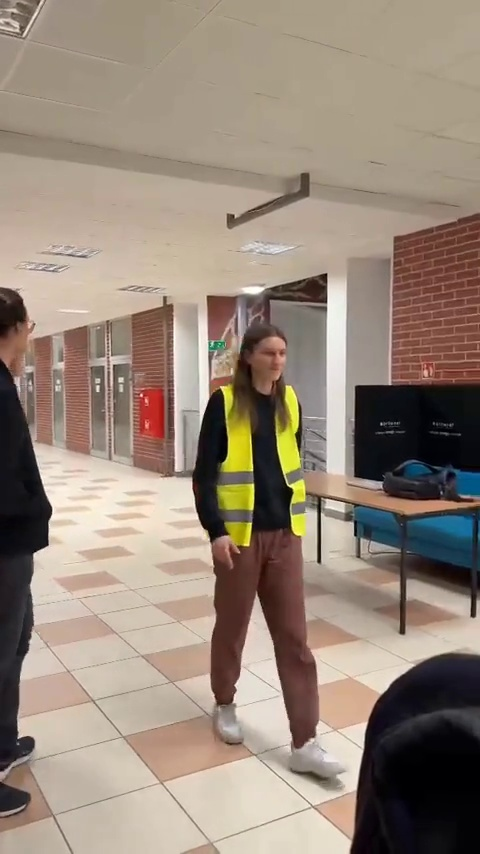no vest: (0, 285, 62, 818)
vest: (193, 326, 348, 776)
